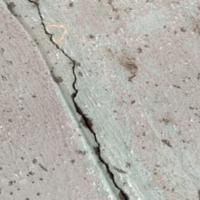crack: (27, 0, 137, 195)
